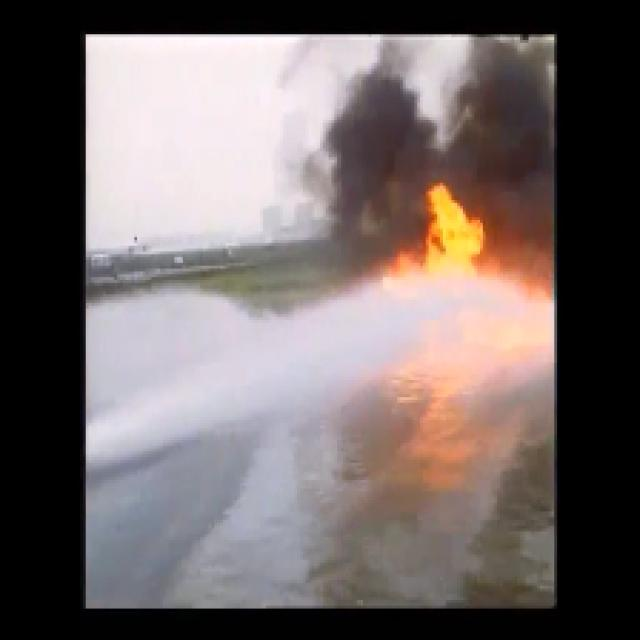fire: (423, 178, 479, 262)
smoke: (321, 87, 413, 247), (476, 64, 553, 222)
